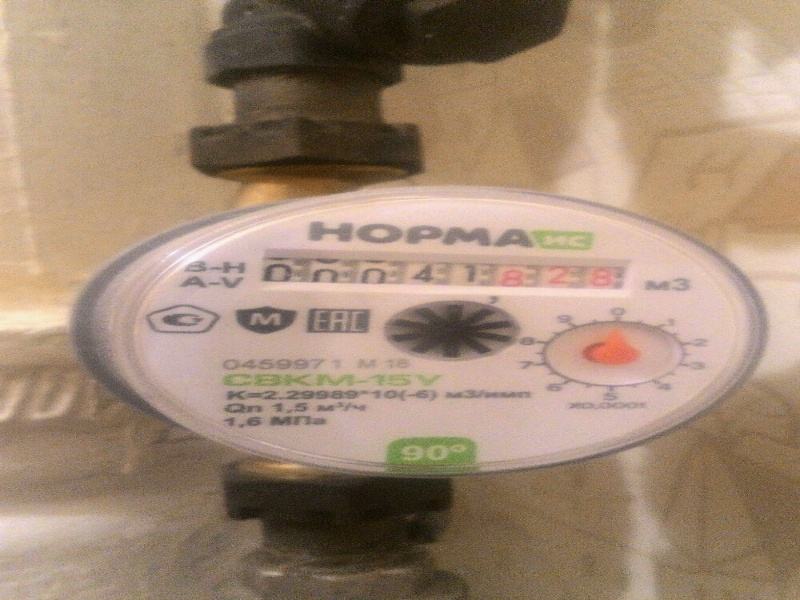meter: (260, 252, 628, 293)
